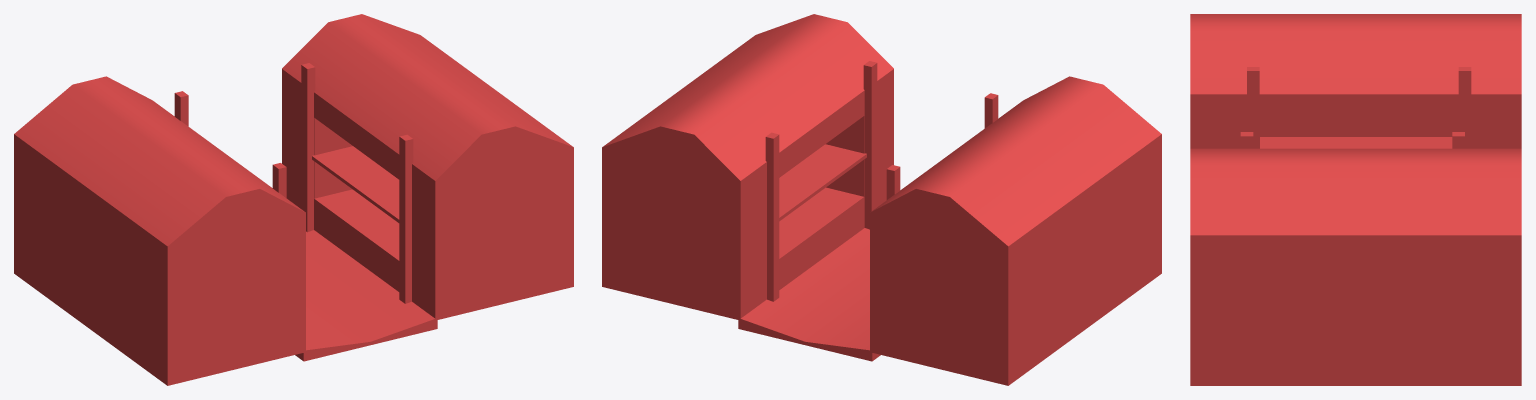
The model's file is Ground_Bed_Double_COL.fbx.
3 renders of one model, left to right at view 1: azimuth 30°, elevation 25°; view 2: azimuth 150°, elevation 25°; view 3: azimuth 270°, elevation 25°, orthographic. The views are drawn at different scales.
Visible parts, largest first — view 1: Ground_Bed_Double_COL; view 2: Ground_Bed_Double_COL; view 3: Ground_Bed_Double_COL.
Boxes of the visible parts, x1=… form: Ground_Bed_Double_COL: x1=14, y1=14, x2=573, y2=385; Ground_Bed_Double_COL: x1=602, y1=14, x2=1161, y2=385; Ground_Bed_Double_COL: x1=1190, y1=14, x2=1521, y2=385.
Bounding box in the file's own units: 611 × 264 × 400.
